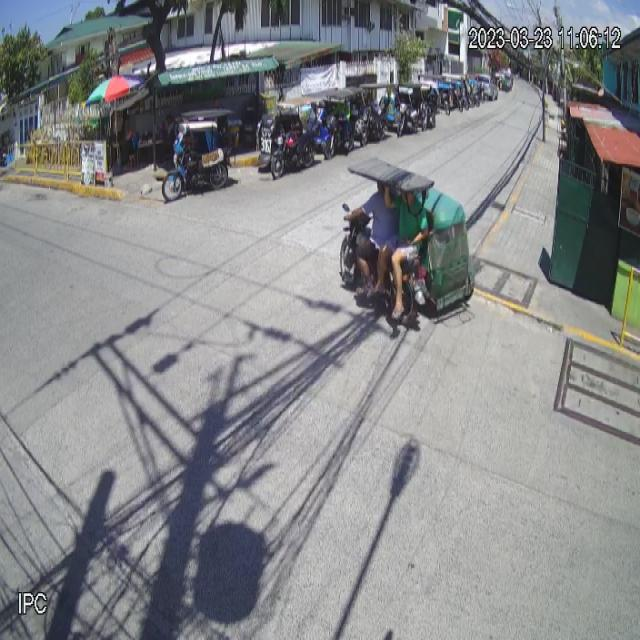Tricycle: (339, 153, 475, 326)
